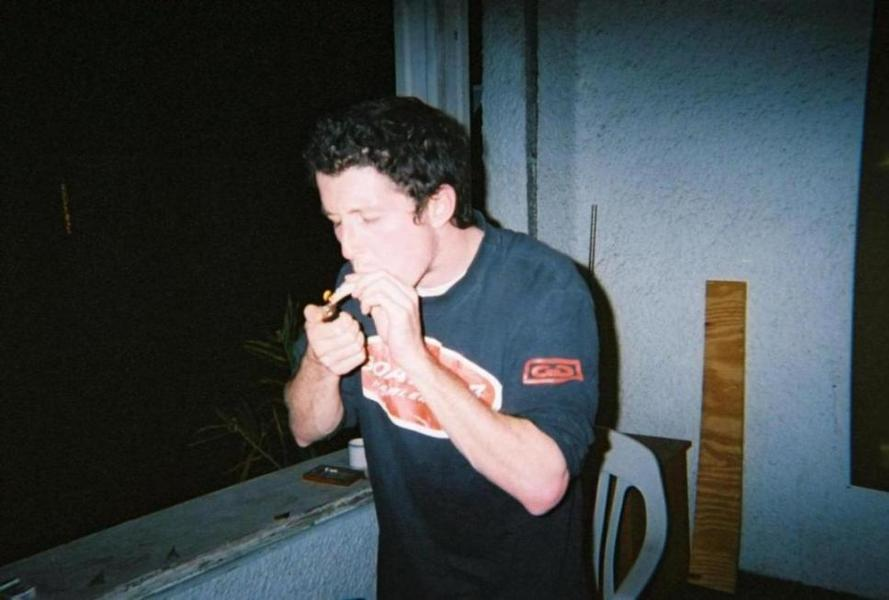person: (282, 95, 606, 600)
